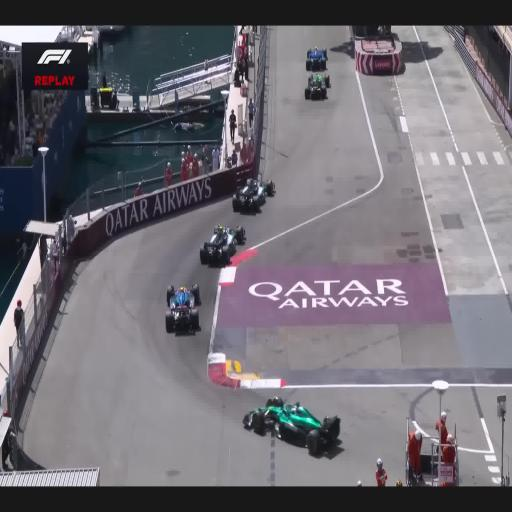f1_car: (243, 397, 339, 454), (405, 425, 459, 486), (199, 225, 246, 265), (166, 284, 201, 332), (232, 178, 275, 212), (304, 74, 330, 99), (306, 47, 327, 70)
